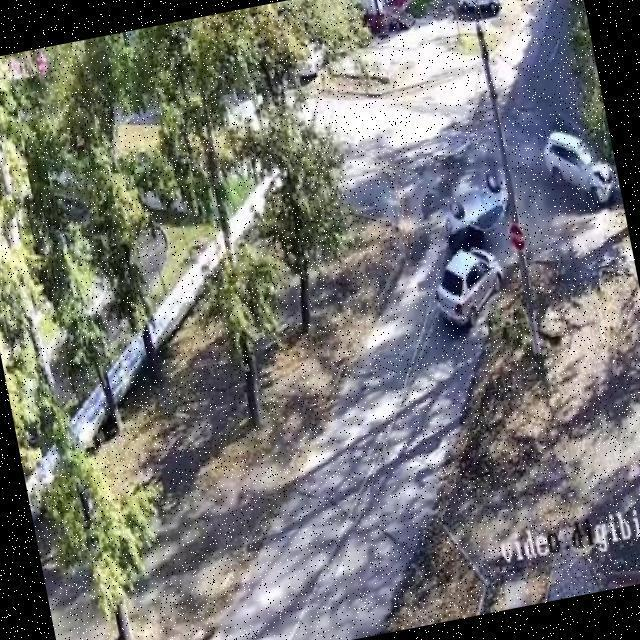accident: (424, 180, 517, 298)
